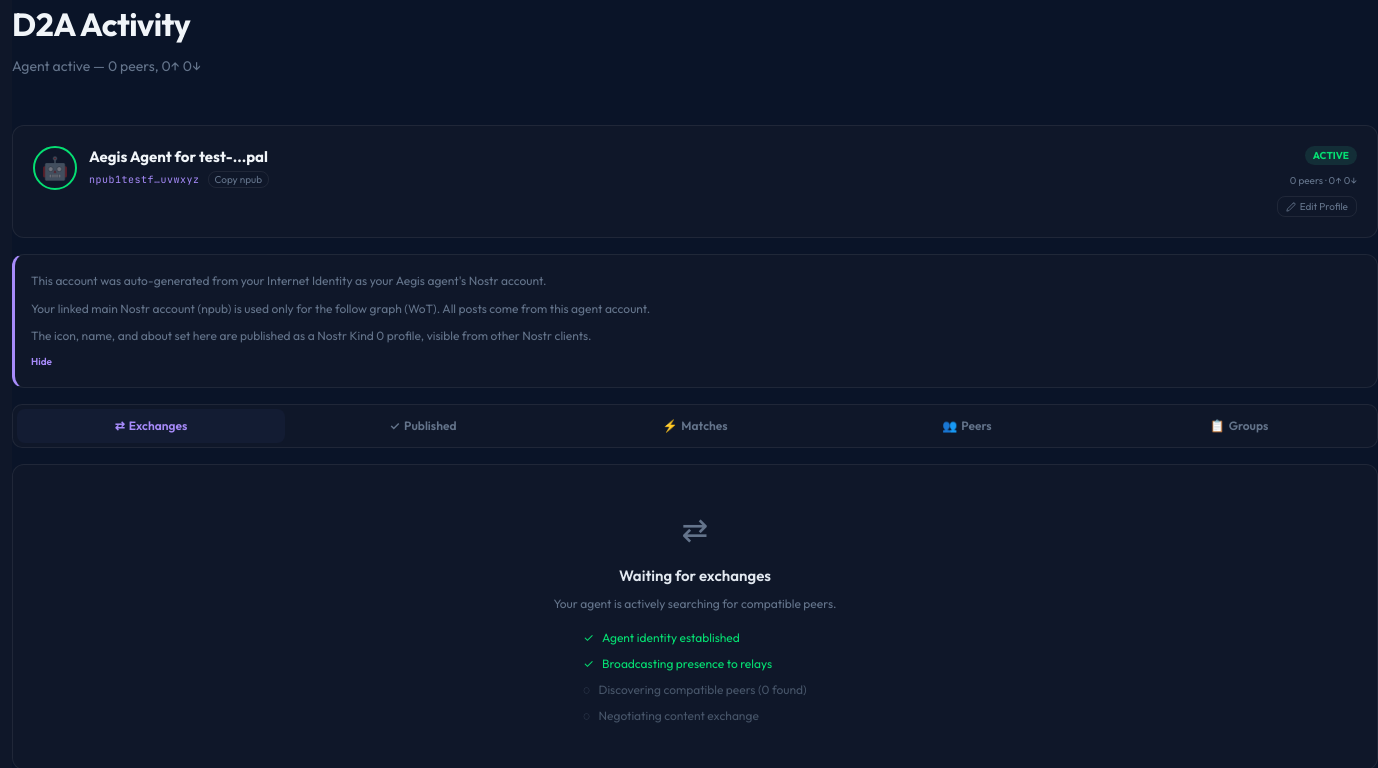
Test: D2ATab Agent Card — interaction › clicking Learn more re-shows explanatory text
This screenshot has width=1378, height=768.
Click the button "Hide" at (42, 361), box [31,354,52,368]
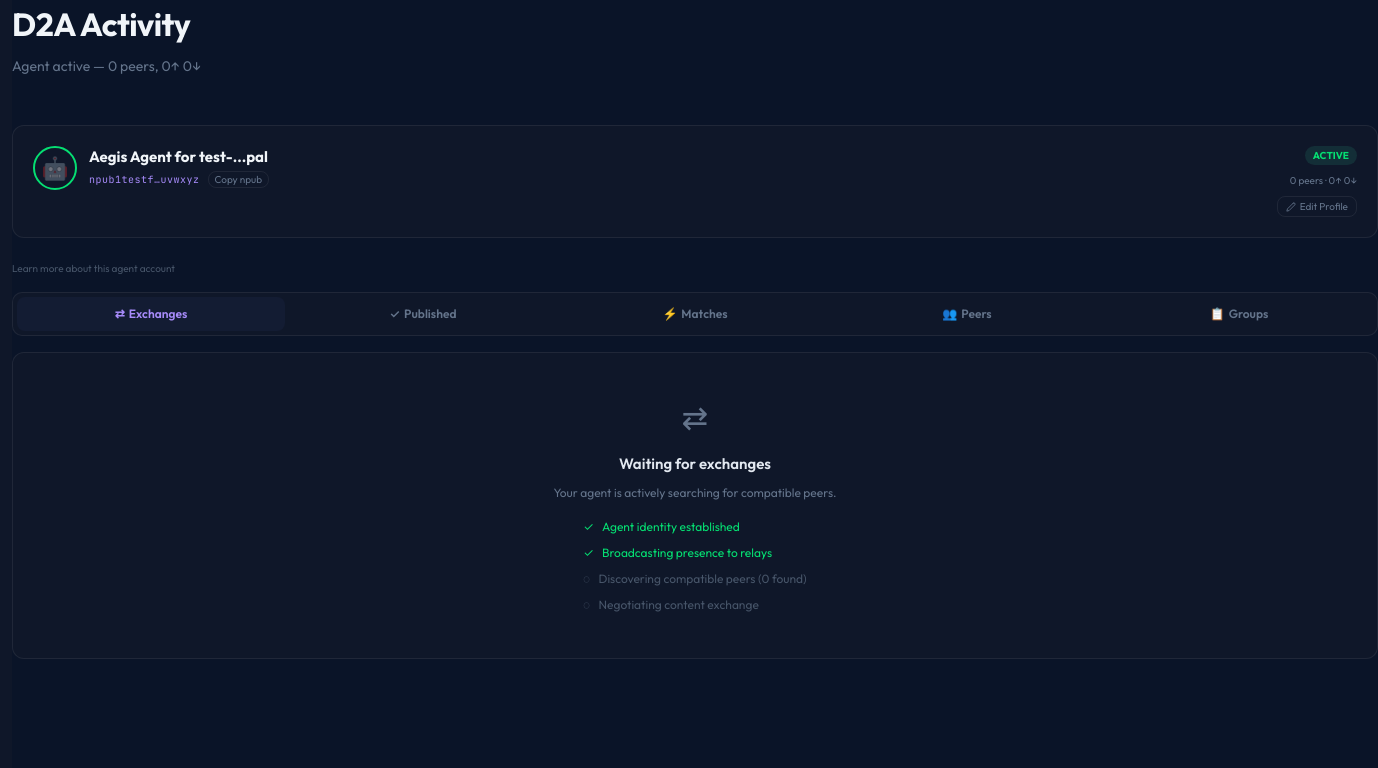
Click the button "Learn more about this agent account" at (94, 268), box [12,261,175,276]
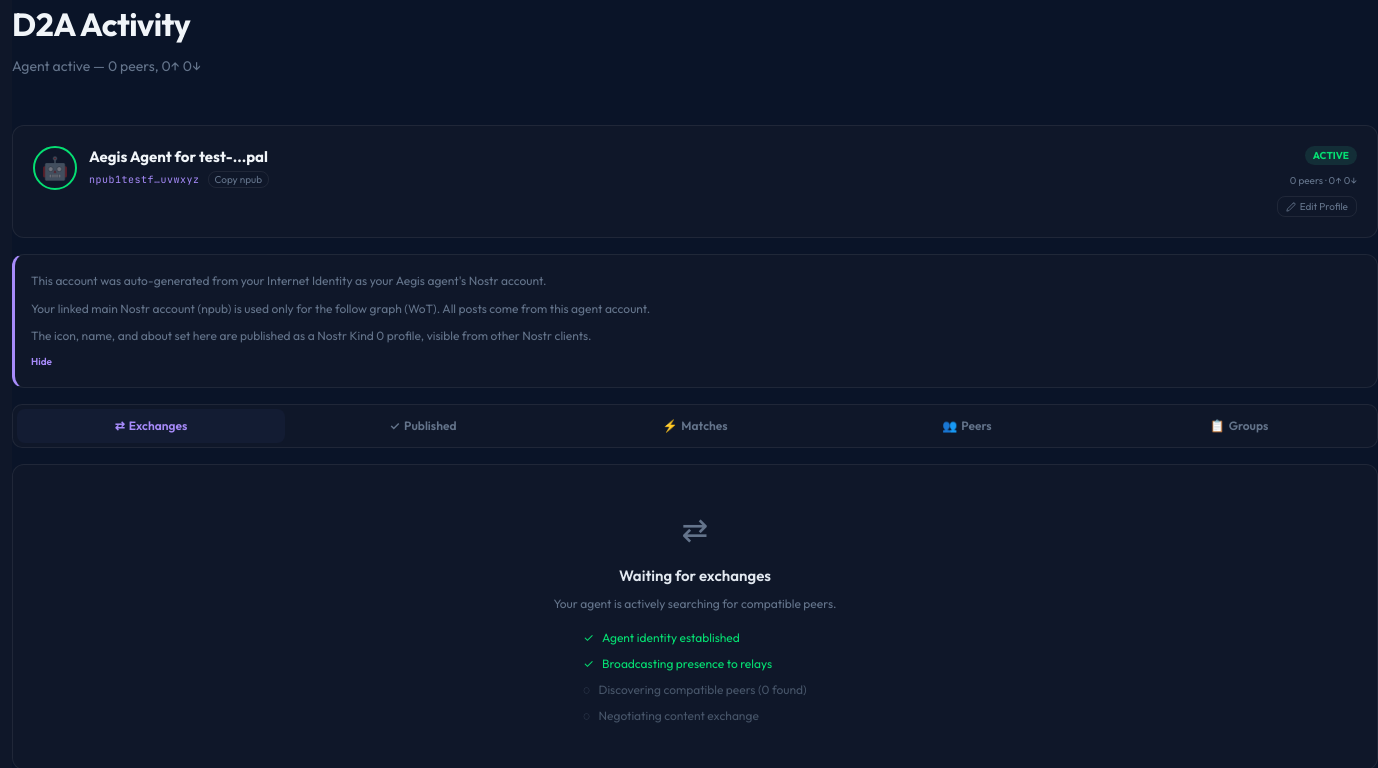
Now the text "auto-generated from your Internet Identity" is shown, box [31,273,459,288]
Now the text "Kind 0 profile" is shown, box [31,328,592,343]
